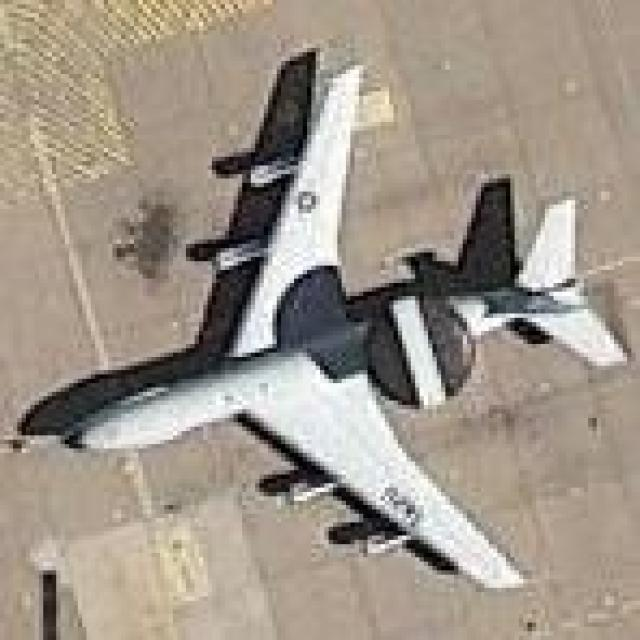E-3_TopDown: (13, 39, 631, 592)
